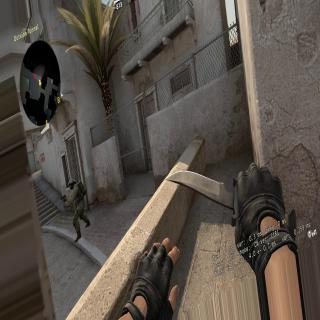CT-Body: (64, 177, 90, 235)
CT-Head: (68, 178, 76, 190)
